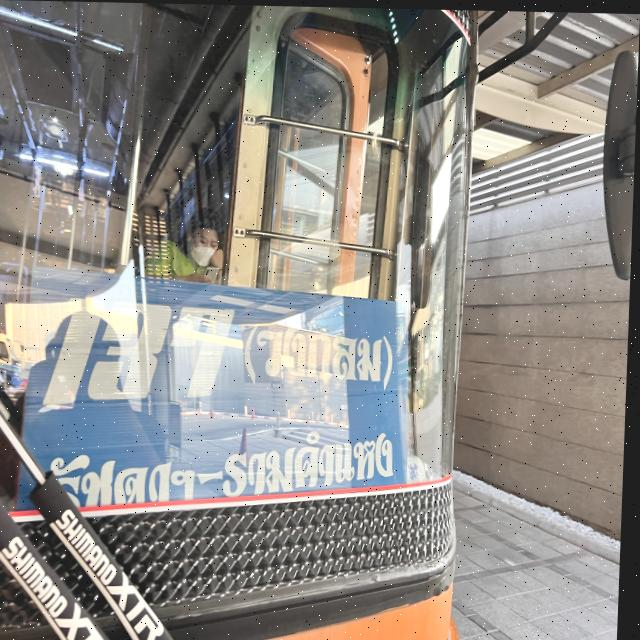Destination Sign: (20, 264, 414, 513)
